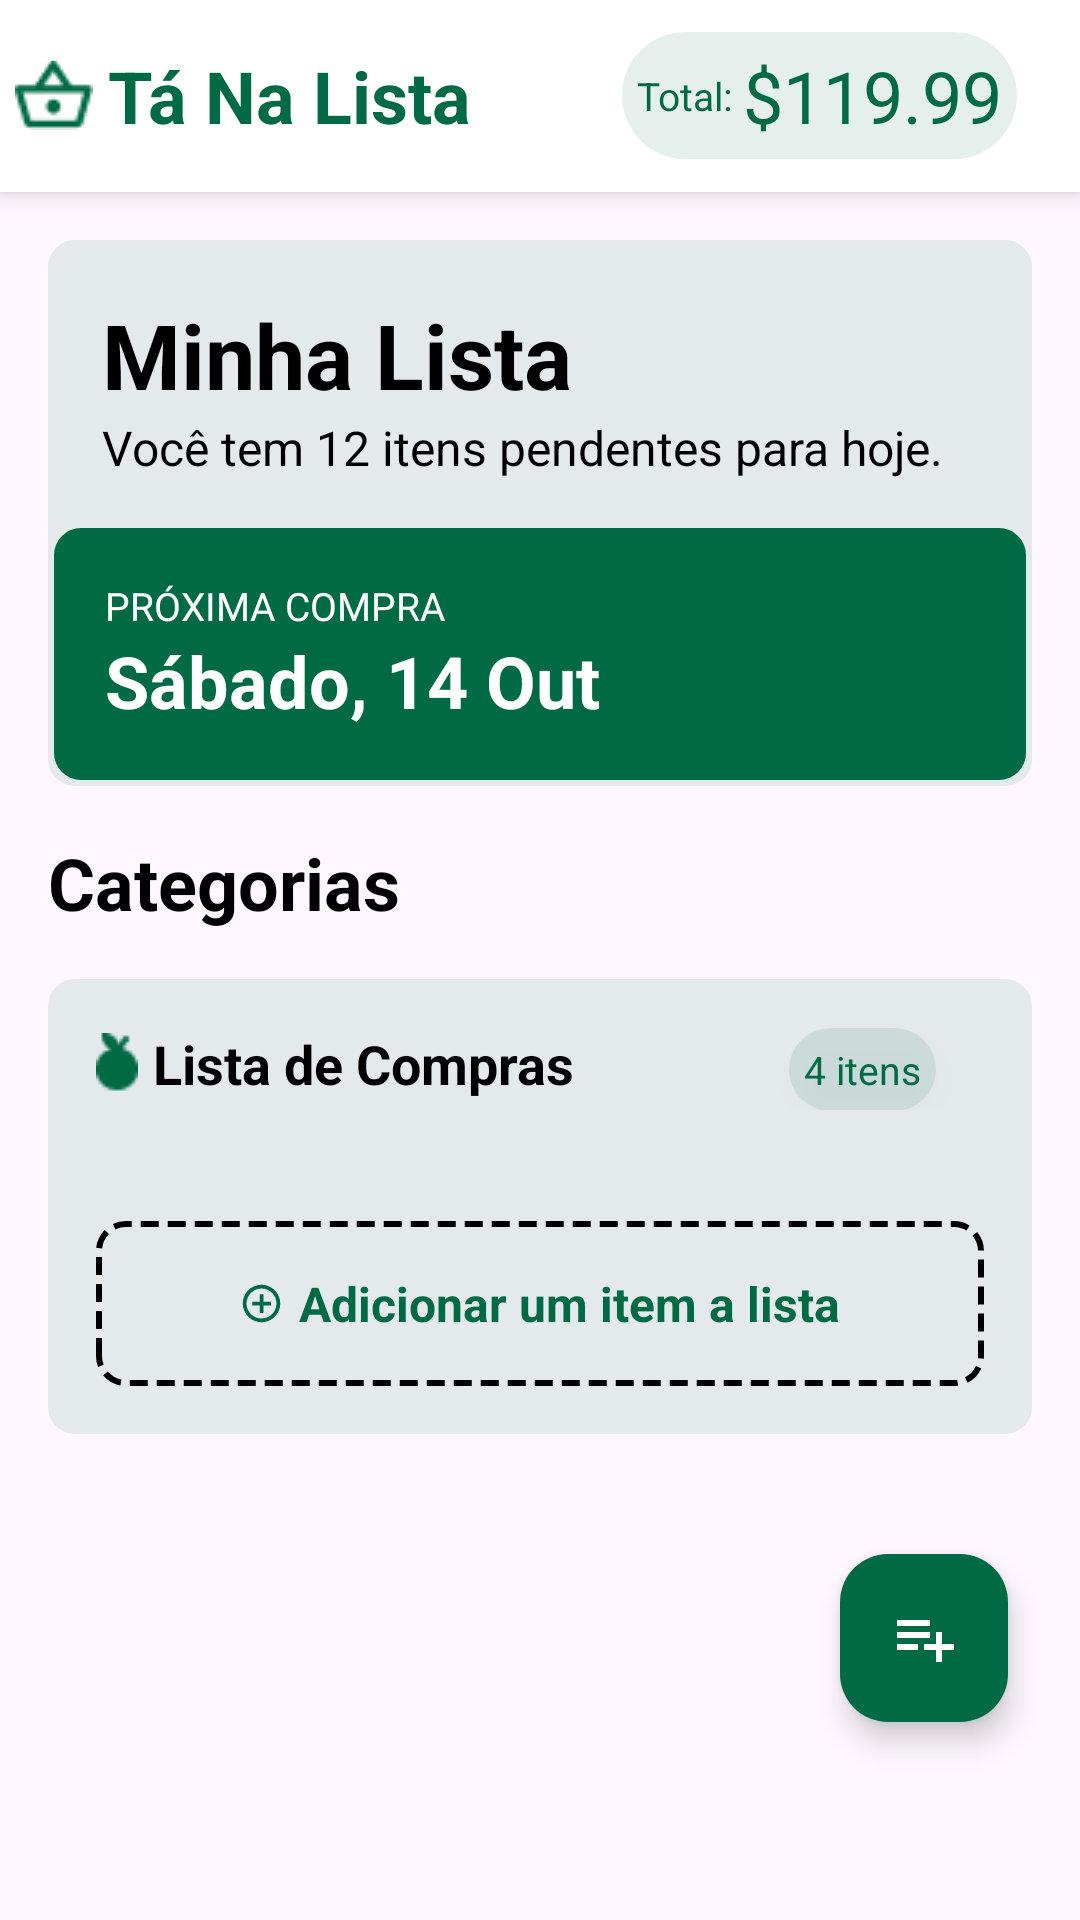

Icon click points for this 1080px×1920px phone screenshot, format (x=x, y=y):
playlist add: (x=924, y=1638)
